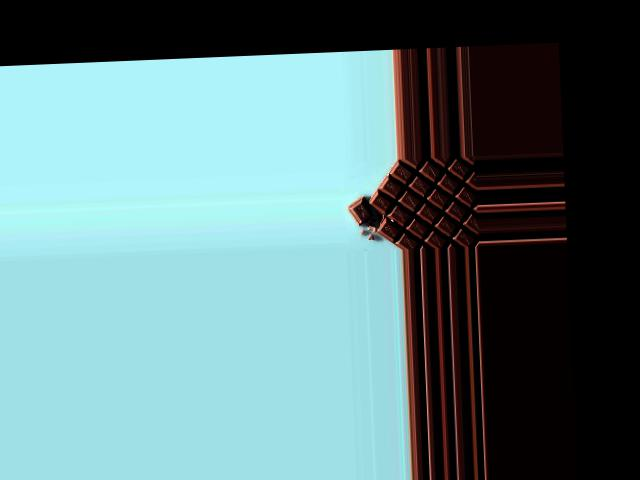chocolate: (359, 159, 479, 249)
